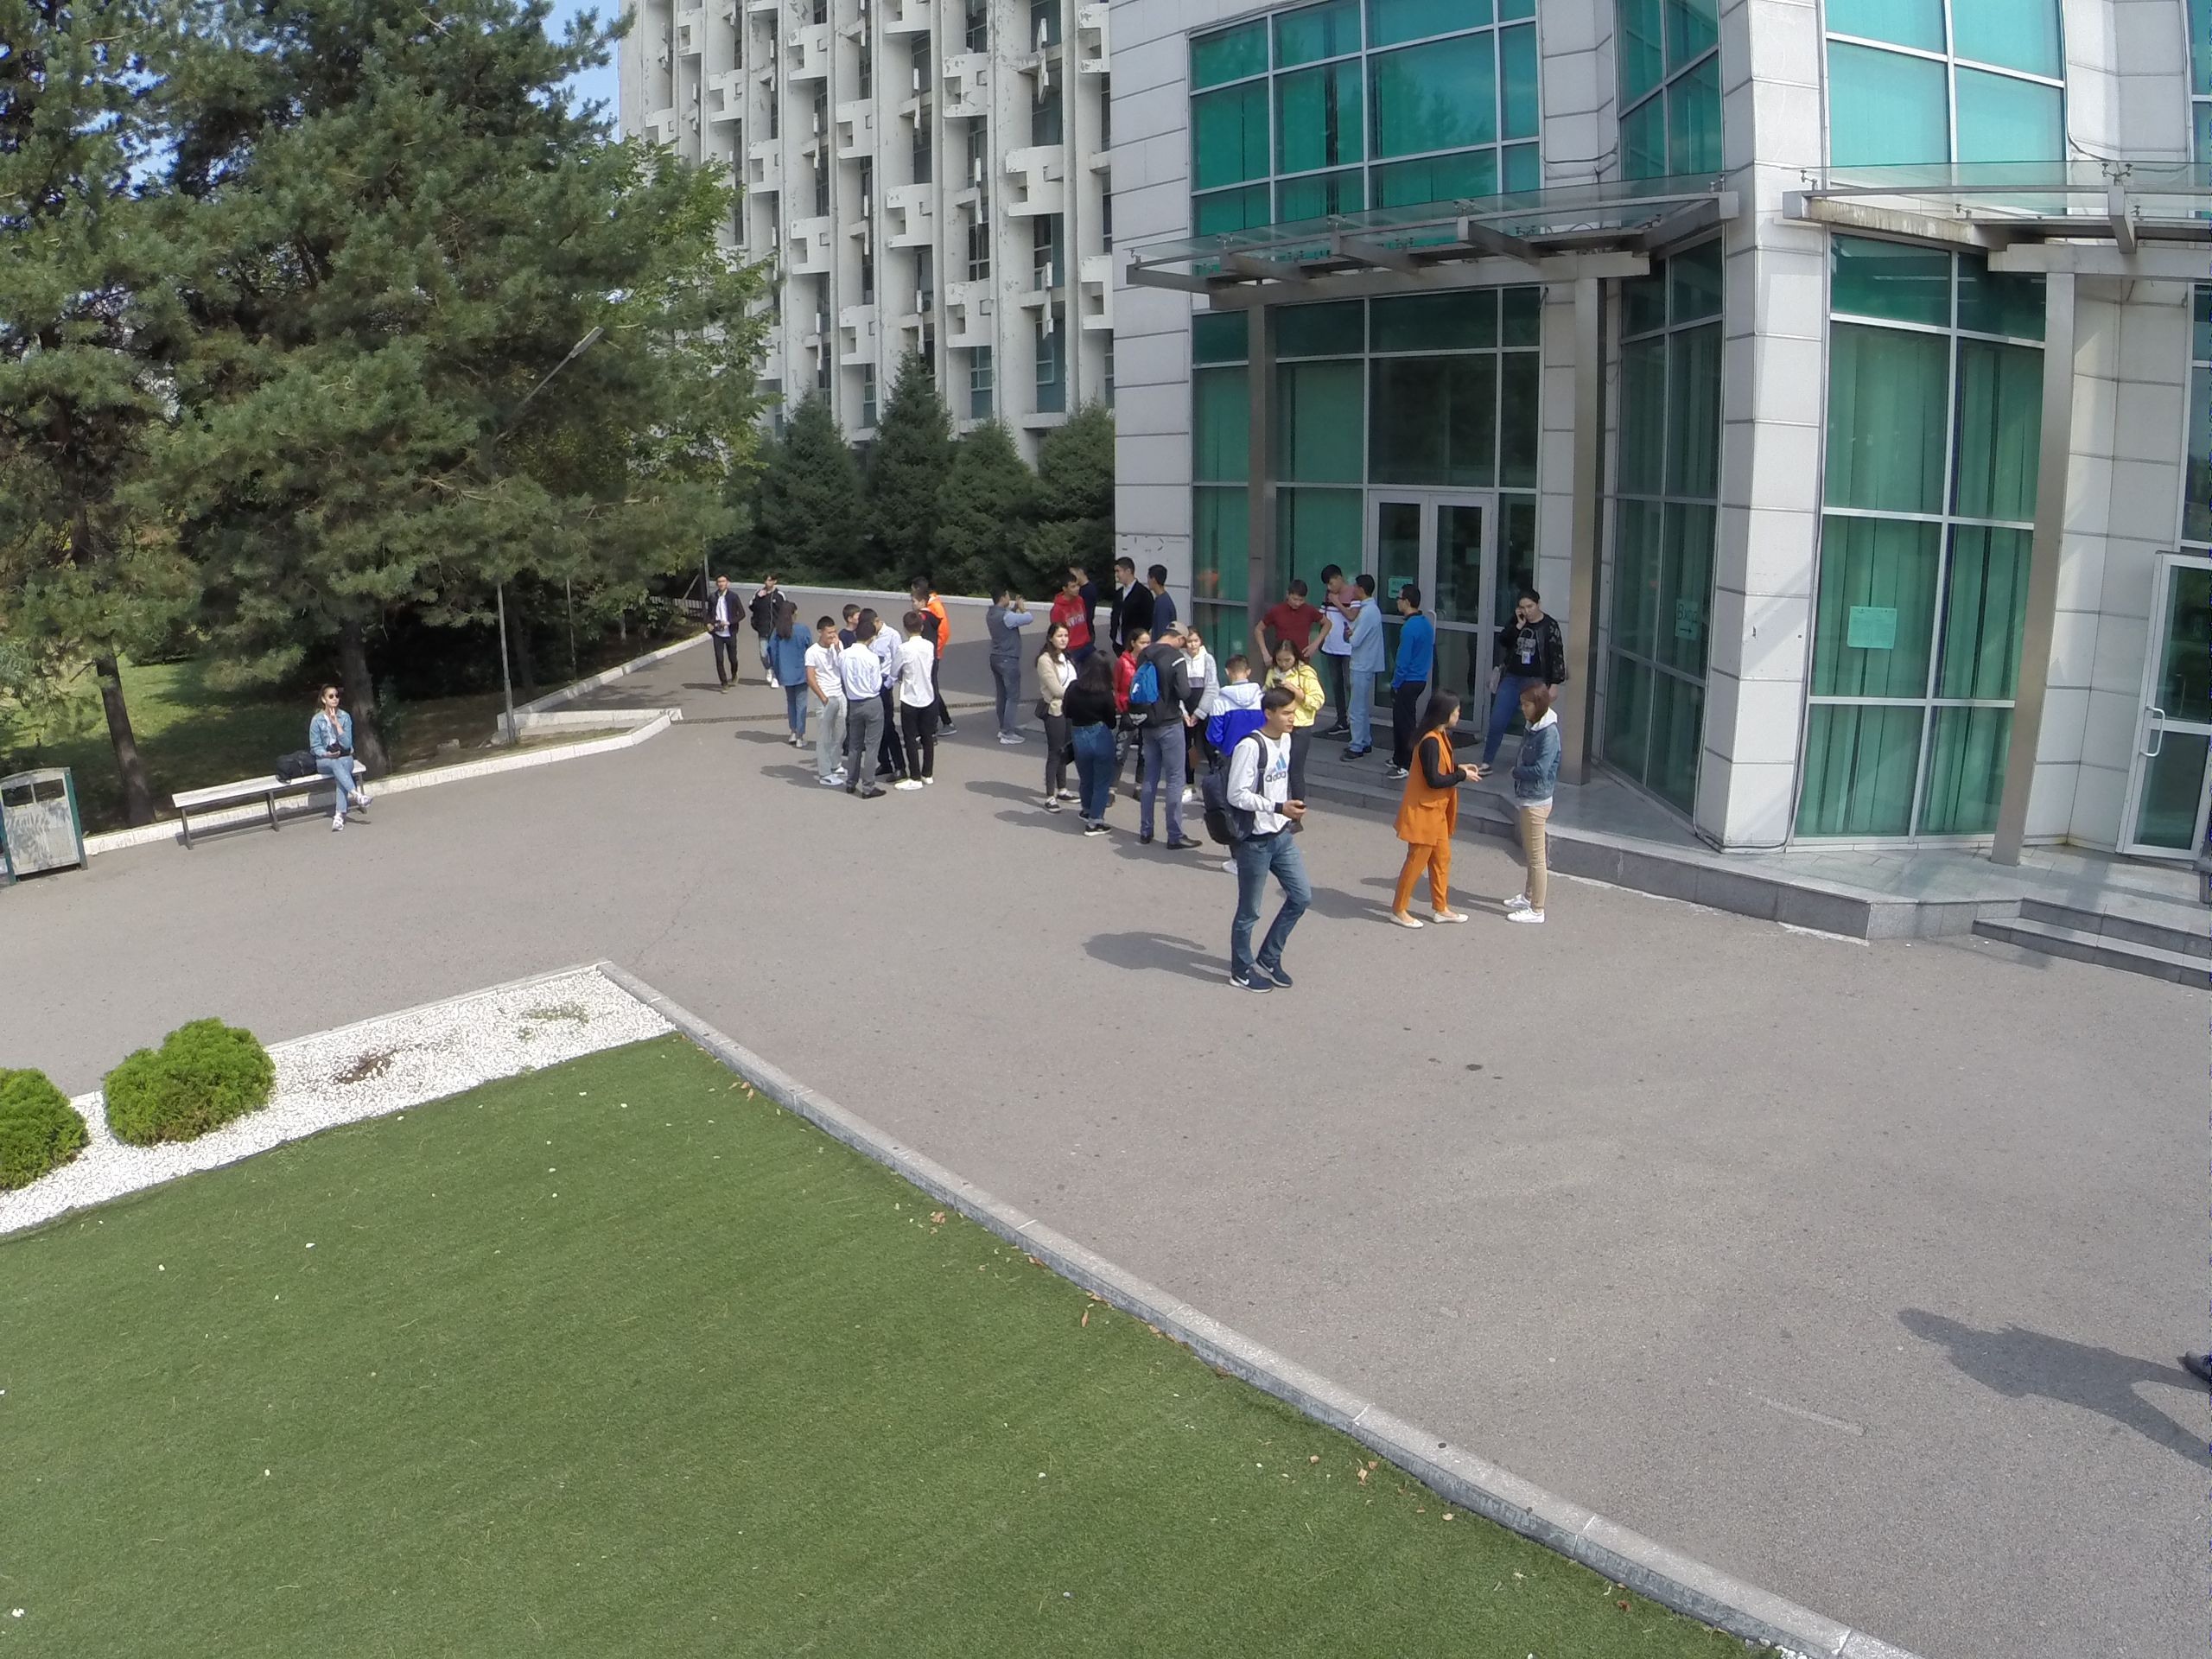person: (1210, 685, 1310, 1012), (1386, 683, 1475, 935), (1502, 685, 1564, 929), (1135, 618, 1197, 854), (1036, 620, 1090, 823), (833, 631, 892, 800), (315, 684, 379, 837), (1338, 570, 1387, 761), (1382, 588, 1429, 782), (983, 585, 1034, 754), (898, 610, 943, 792), (1204, 649, 1266, 751), (1251, 573, 1326, 651), (774, 594, 808, 753), (1499, 581, 1558, 675), (705, 571, 739, 696), (817, 618, 838, 780), (1313, 559, 1354, 639), (1267, 645, 1325, 696), (1109, 554, 1141, 637), (1145, 561, 1176, 627), (1048, 575, 1090, 623), (752, 569, 767, 690)
